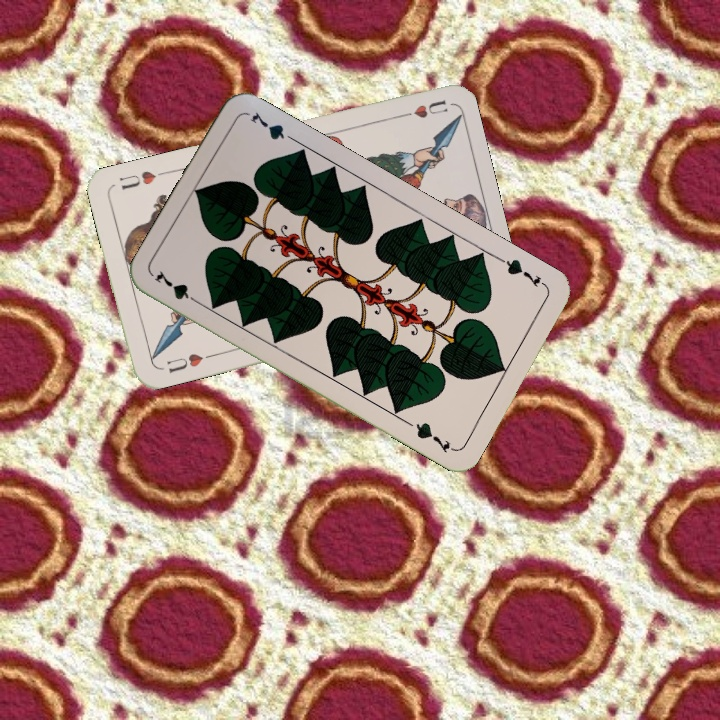G7: (150, 267, 204, 308), (496, 254, 550, 291)
HU: (392, 96, 451, 121), (162, 349, 214, 376)
